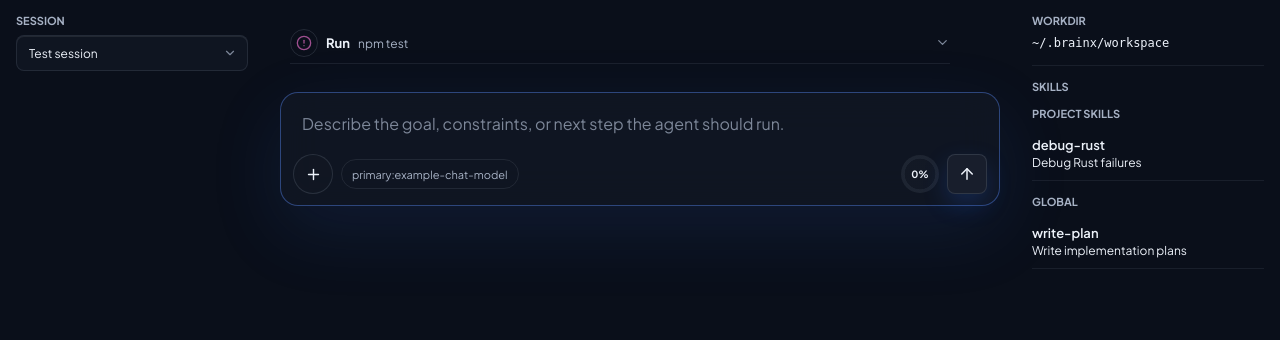
Scenario: chat interaction polish › renders command tool details as terminal output instead of raw result fields
Click the dropdown named "Chat sessions".
click(132, 53)  # box [16,35,248,71]
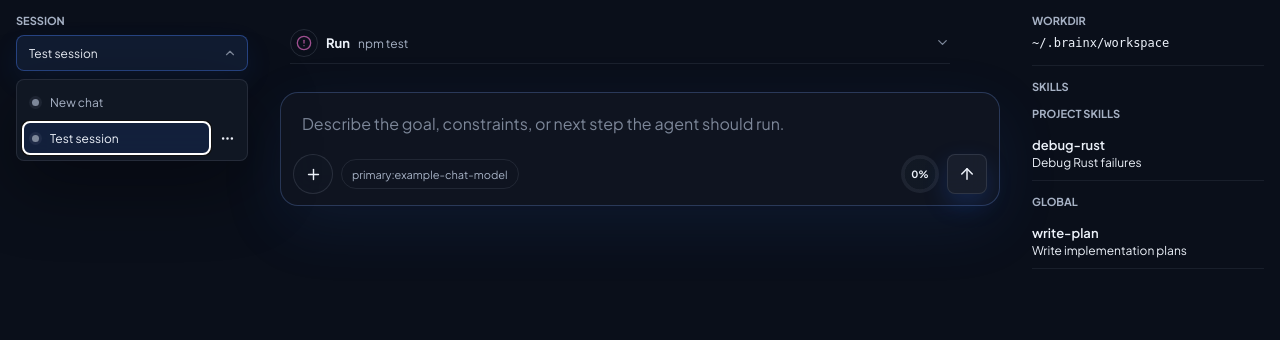
Click the option "Test session".
click(116, 138)  # box [23,122,210,154]
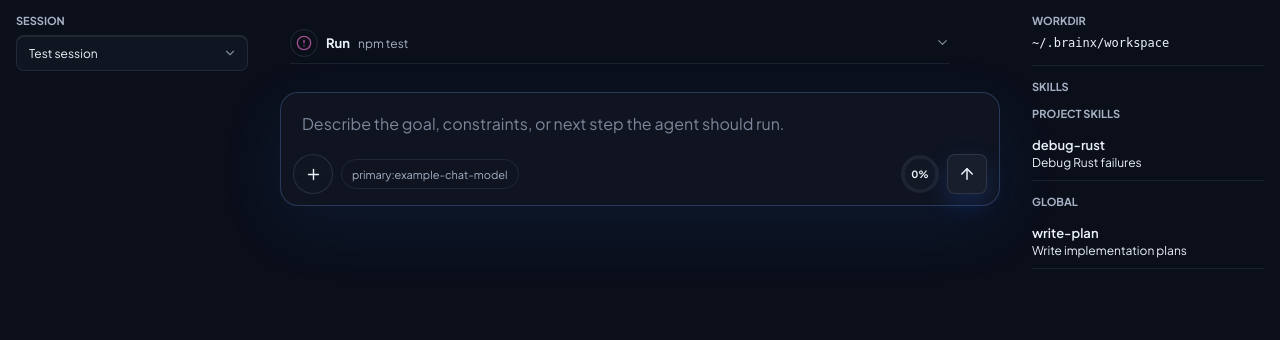
Click the button "Run npm test".
click(383, 43)  # box [290,22,950,64]
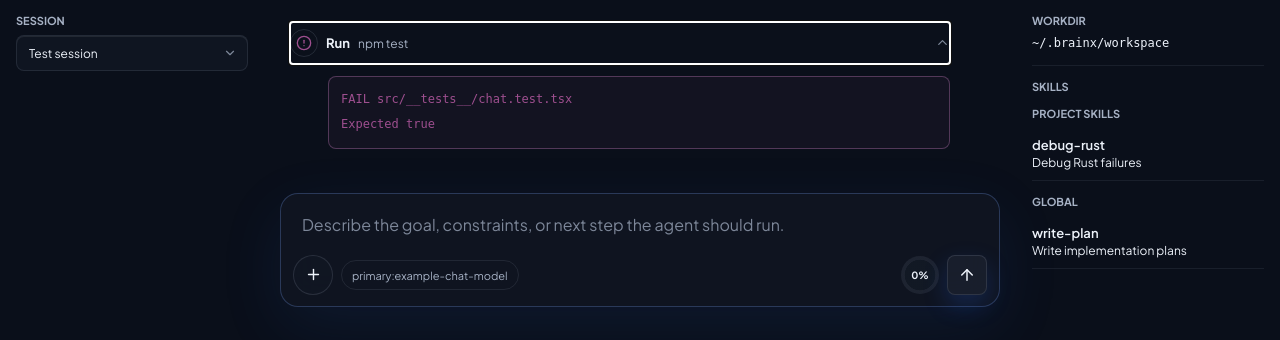
Check: the text "FAIL src/__tests__/chat.test.tsx" is shown, box [341,92,572,106]
